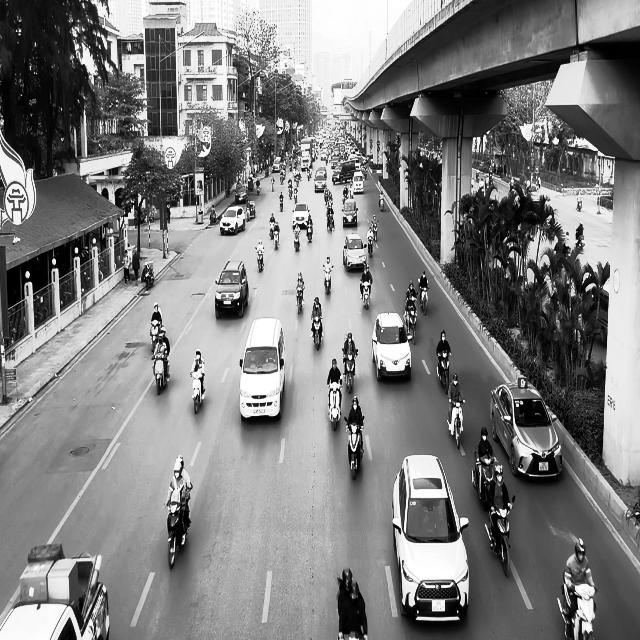bus: (300, 138, 312, 170)
car: (392, 453, 469, 622), (0, 544, 110, 640), (490, 375, 562, 479), (238, 317, 286, 420), (371, 312, 412, 382), (214, 259, 248, 319), (343, 233, 367, 271), (219, 205, 246, 235), (292, 202, 310, 229), (342, 199, 358, 226), (234, 184, 248, 204)
motorbike: (557, 572, 597, 640), (484, 494, 516, 577), (164, 483, 192, 569), (471, 446, 497, 511), (344, 416, 364, 480), (448, 397, 465, 449), (151, 352, 170, 394), (328, 378, 342, 431), (342, 348, 358, 392), (436, 350, 451, 394), (190, 370, 205, 414), (404, 299, 417, 345), (312, 314, 324, 350), (359, 279, 372, 309), (149, 321, 161, 352), (141, 261, 154, 289), (418, 286, 429, 315), (295, 284, 305, 314), (323, 265, 333, 294), (255, 246, 264, 272), (366, 232, 374, 256), (294, 228, 300, 251), (306, 222, 312, 242), (280, 194, 284, 211)
